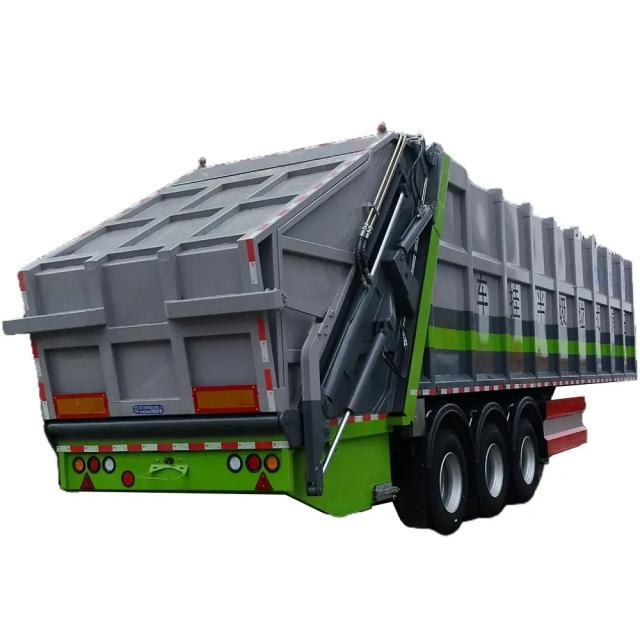traffic light: (1, 120, 637, 534)
